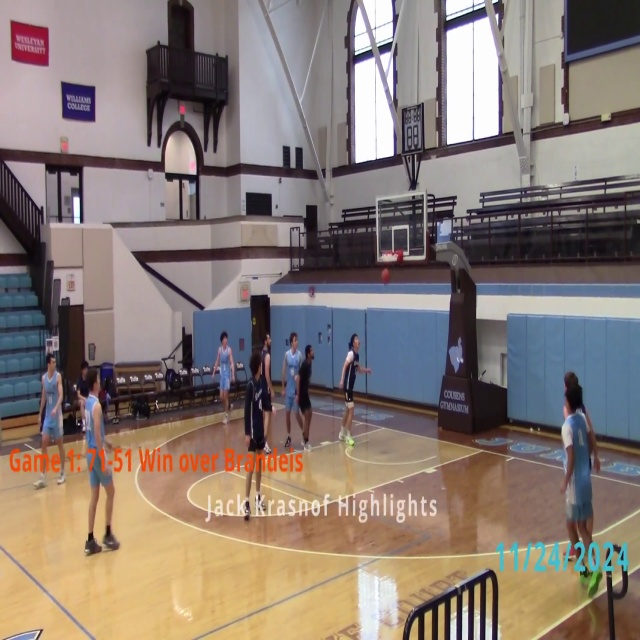Basketball: (381, 268, 390, 283), (346, 438, 354, 446)
